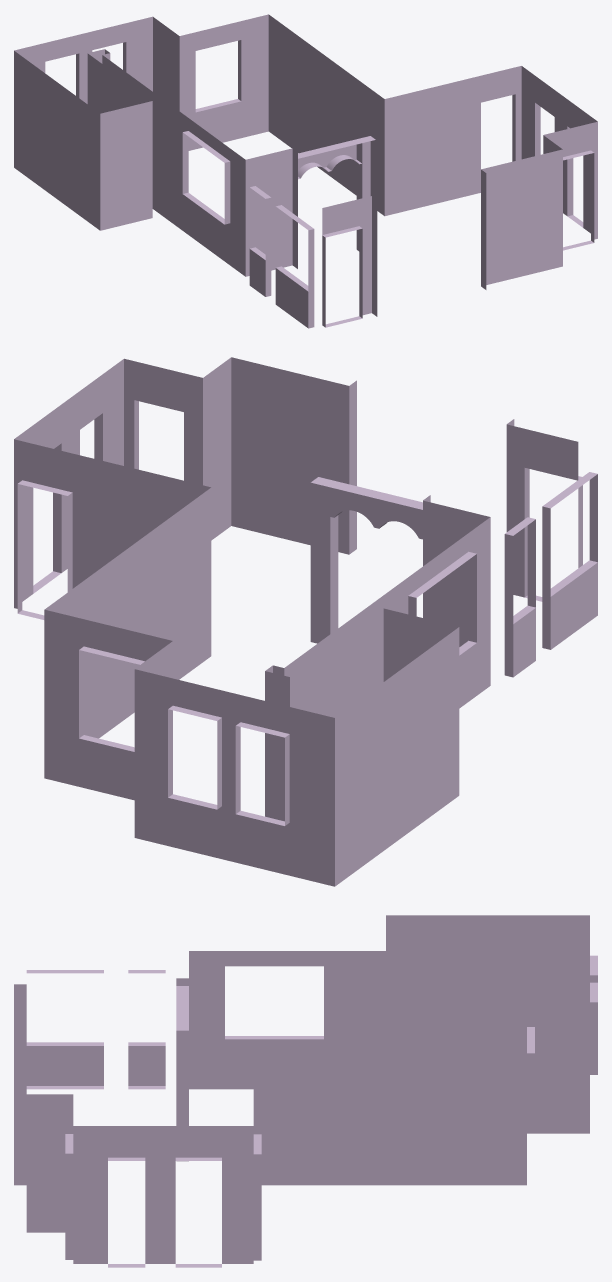
File: qiang.FBX
The picture shows the model from 3 angles, top to bottom: view 1: azimuth 30°, elevation 25°; view 2: azimuth 150°, elevation 25°; view 3: azimuth 270°, elevation 25°; orthographic projection. The views are drawn at different scales.
Visible parts, largest first — view 1: Layer:0; view 2: Layer:0; view 3: Layer:0.
Boxes of the visible parts, x1,y1,x2,y2 form: Layer:0: (14, 14, 597, 328); Layer:0: (14, 357, 597, 886); Layer:0: (14, 915, 597, 1267).
Bounding box in the file's own units: 9480 × 2860 × 10947.
